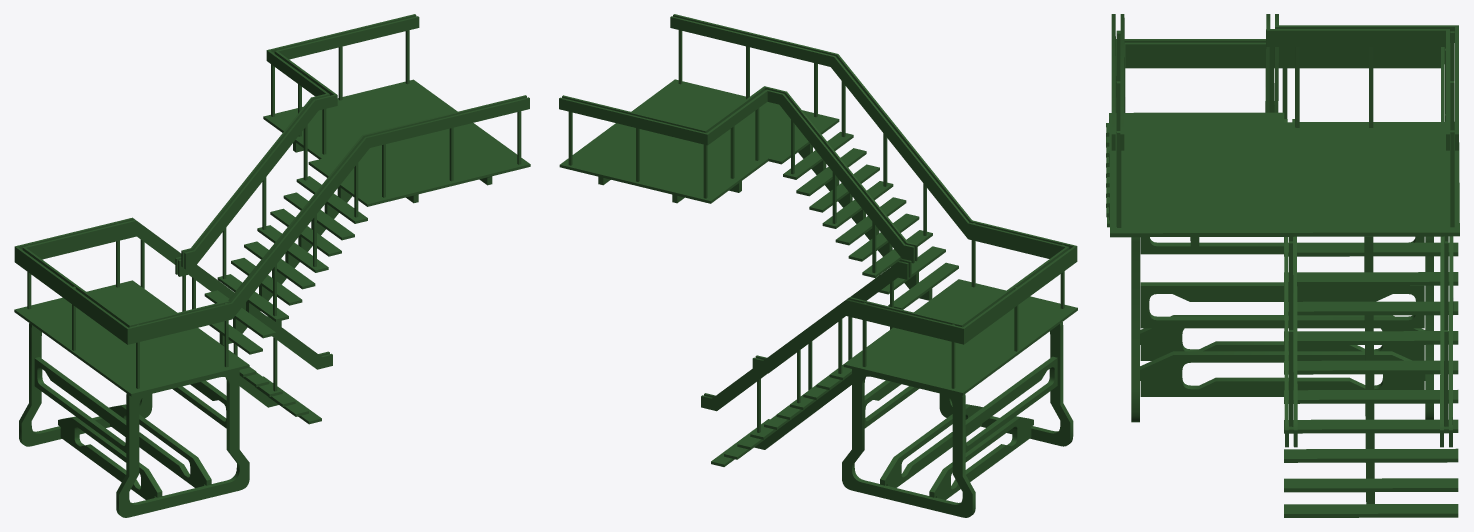
Rendered from SpiralStair_B.FBX.
3 renders of one model, left to right at view 1: azimuth 30°, elevation 25°; view 2: azimuth 150°, elevation 25°; view 3: azimuth 270°, elevation 25°, orthographic. The views are drawn at different scales.
Parts seen in each view (by area): view 1: SpiralStair_B; view 2: SpiralStair_B; view 3: SpiralStair_B.
Part boxes in pixels (x1=…): SpiralStair_B: x1=14, y1=14, x2=530, y2=517; SpiralStair_B: x1=559, y1=14, x2=1077, y2=517; SpiralStair_B: x1=1106, y1=14, x2=1459, y2=517.
Bounding box in the file's own units: 807 × 625 × 405.
